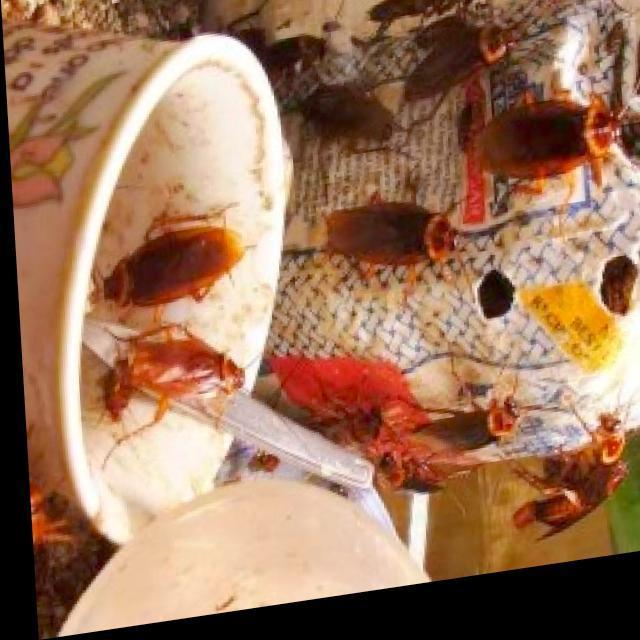cockroach: (80, 317, 265, 443), (79, 202, 256, 331), (327, 186, 518, 285), (384, 13, 533, 139), (470, 79, 627, 194), (510, 399, 622, 543), (411, 376, 554, 480), (294, 87, 408, 161), (256, 22, 339, 92)
